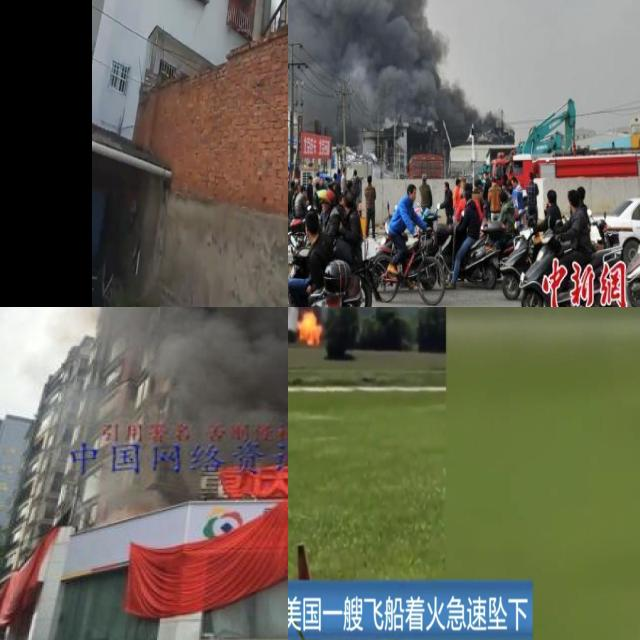fire: (295, 308, 324, 347)
smoke: (0, 307, 288, 504), (288, 0, 505, 138)
